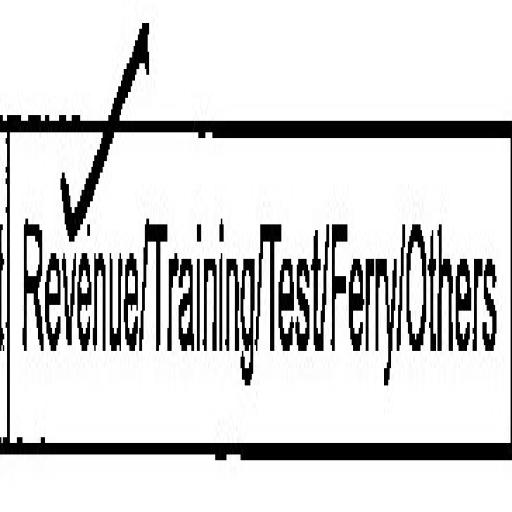check: (8, 0, 145, 512)
